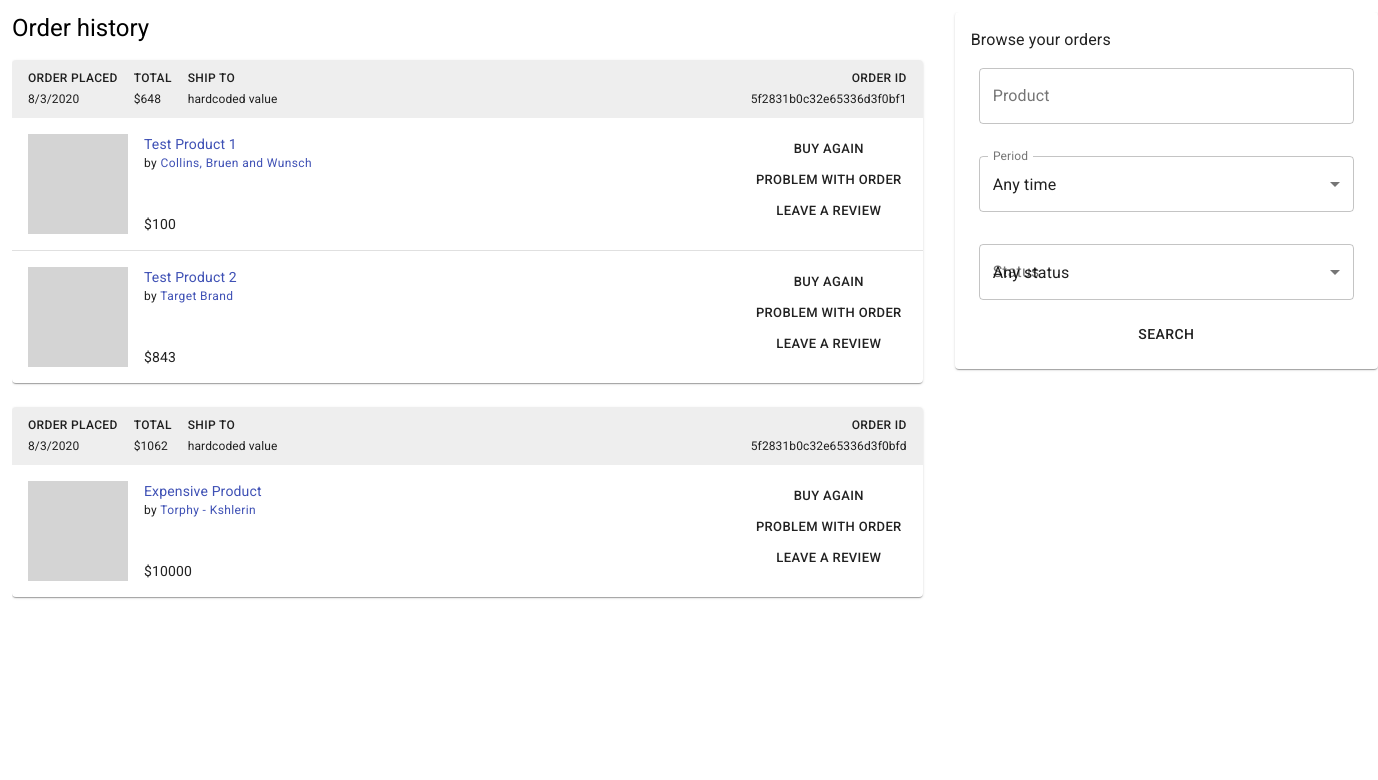
MyOrders tests › After fetch › The order status filter works
Check: the number of links "Test Product 2" is 1, box [144,269,237,285]
Select "Delivered" in the dropdown with test id "status-select" at coordinates (1166, 272), box [979,244,1354,300]
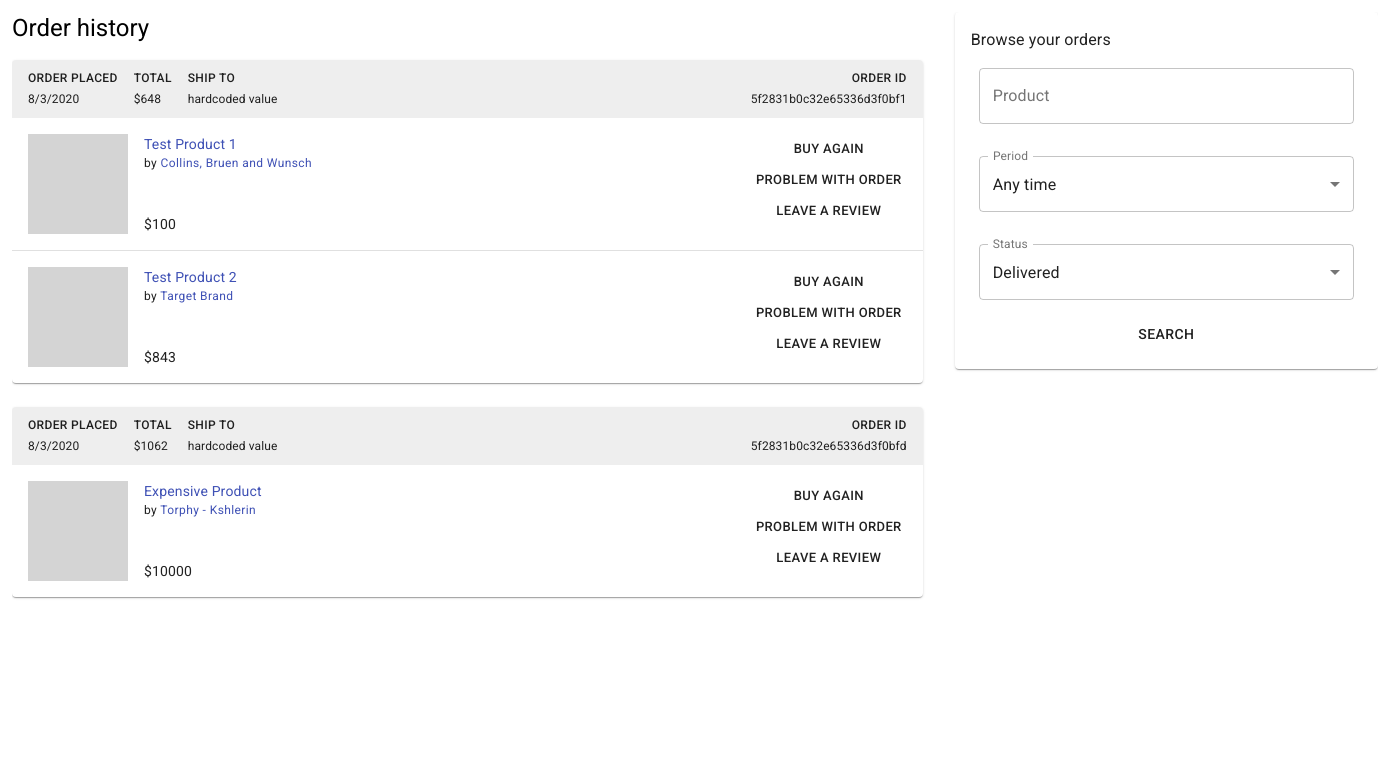
Click the button "Search" at coordinates (1166, 334), box [971,316,1362,352]
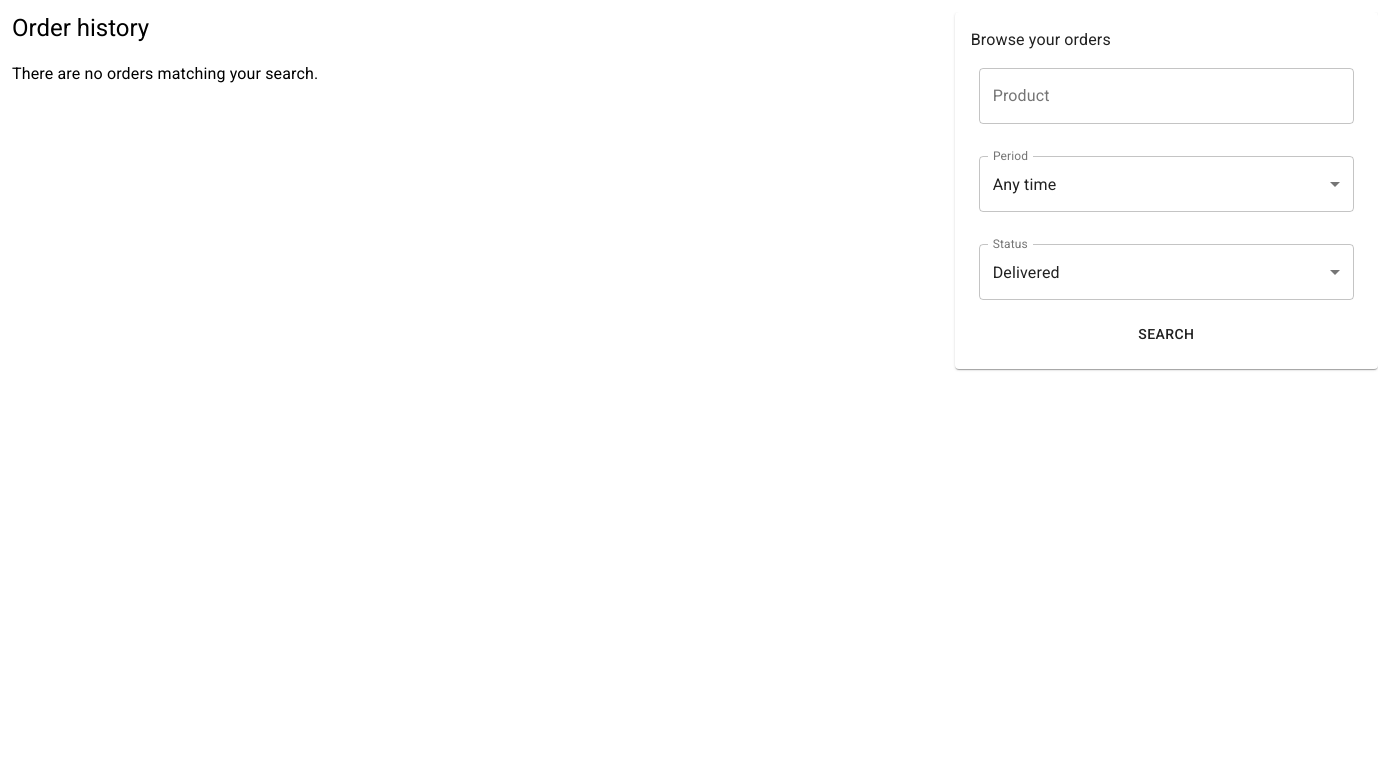
Check: no links "Test Product 2" are shown
